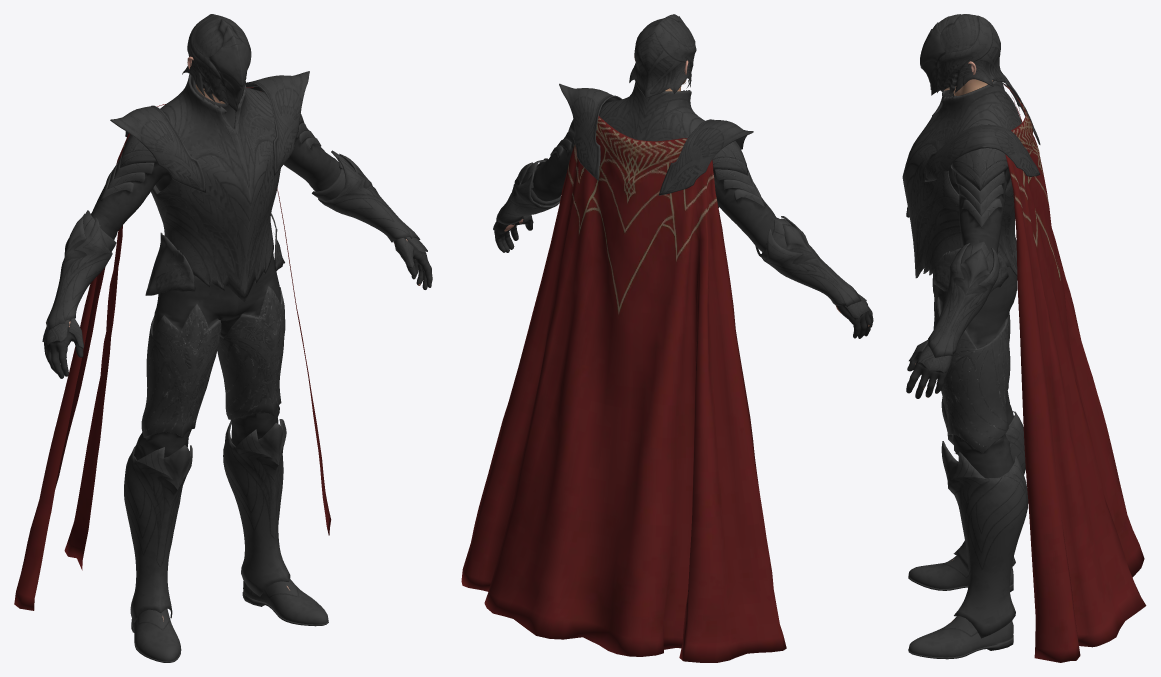
3 renders of one model, left to right at view 1: azimuth 30°, elevation 25°; view 2: azimuth 150°, elevation 25°; view 3: azimuth 270°, elevation 25°, orthographic. The views are drawn at different scales.
Parts seen in each view (by area): view 1: GM_0056_T03_Body, GM_0056_T03_Pants, GM_0056_T03_Boots, GM_0056_T03_Glove, GM_0056_T03_Cape, GM_0056_T03_Shoulder, GM_0056_T03_Helmet; view 2: GM_0056_T03_Cape, GM_0056_T03_Body, GM_0056_T03_Glove, GM_0056_T03_Shoulder, GM_0056_T03_Helmet; view 3: GM_0056_T03_Cape, GM_0056_T03_Body, GM_0056_T03_Boots, GM_0056_T03_Pants, GM_0056_T03_Glove, GM_0056_T03_Helmet, GM_0056_T03_Shoulder, GM_BaseHead.
Boxes of the visible parts, box(x1,y1,x2,y2) form: GM_0056_T03_Body: box(69, 74, 420, 326); GM_0056_T03_Pants: box(134, 253, 289, 621); GM_0056_T03_Boots: box(124, 419, 328, 662); GM_0056_T03_Glove: box(42, 150, 432, 378); GM_0056_T03_Cape: box(14, 86, 331, 610); GM_0056_T03_Shoulder: box(110, 71, 309, 192); GM_0056_T03_Helmet: box(182, 14, 251, 111); GM_0056_T03_Cape: box(461, 116, 786, 662); GM_0056_T03_Body: box(504, 81, 869, 326); GM_0056_T03_Glove: box(493, 158, 873, 338); GM_0056_T03_Shoulder: box(559, 83, 753, 195); GM_0056_T03_Helmet: box(629, 14, 696, 98); GM_0056_T03_Cape: box(1003, 83, 1146, 662); GM_0056_T03_Body: box(902, 80, 1021, 397); GM_0056_T03_Boots: box(908, 397, 1028, 659); GM_0056_T03_Pants: box(932, 267, 1017, 622); GM_0056_T03_Glove: box(906, 207, 999, 398); GM_0056_T03_Helmet: box(920, 14, 1005, 95); GM_0056_T03_Shoulder: box(924, 73, 1040, 181); GM_BaseHead: box(944, 61, 992, 96).
Bounding box in the file's own units: 1.25 × 1.91 × 0.7011.
10 materials, 9 textured.
